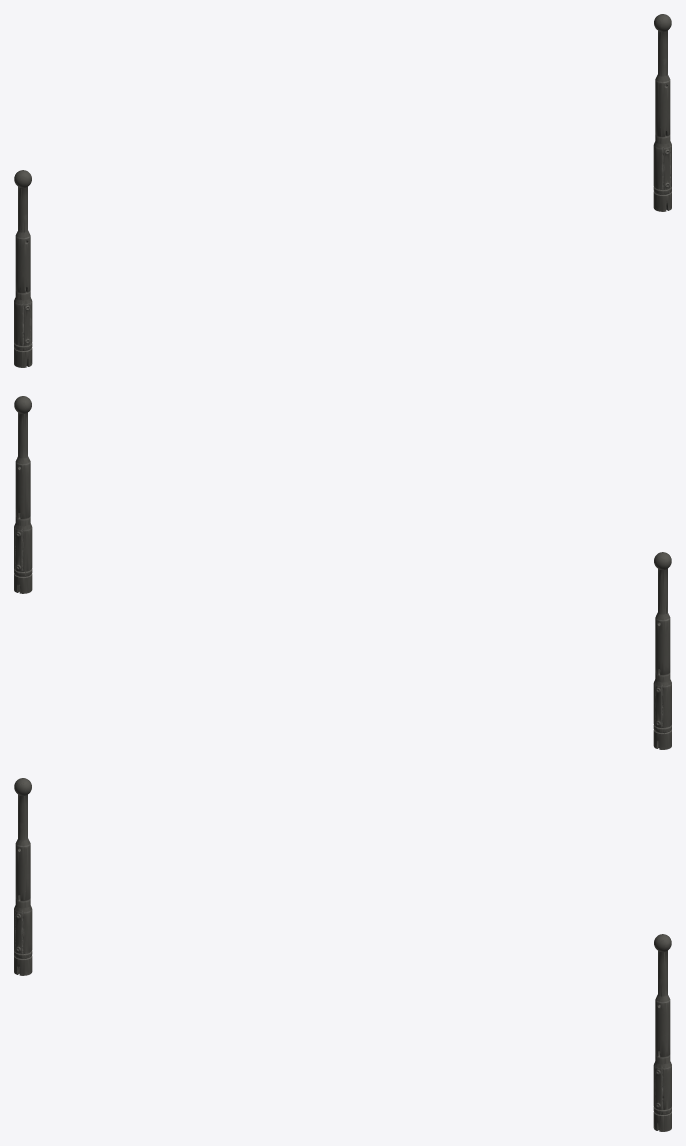
Rendered from piece_antenna_classic.glb.
The picture shows the model from 3 angles, top to bottom: view 1: azimuth 30°, elevation 25°; view 2: azimuth 150°, elevation 25°; view 3: azimuth 330°, elevation 25°; orthographic projection.
Visible parts, largest first — view 1: trait_antenna_classic_left, trait_antenna_classic_right; view 2: trait_antenna_classic_left, trait_antenna_classic_right; view 3: trait_antenna_classic_right, trait_antenna_classic_left.
Part boxes in pixels (bbox=[...]): trait_antenna_classic_left: bbox=[653, 14, 671, 211]; trait_antenna_classic_right: bbox=[14, 170, 32, 367]; trait_antenna_classic_left: bbox=[14, 396, 32, 593]; trait_antenna_classic_right: bbox=[653, 552, 671, 749]; trait_antenna_classic_right: bbox=[14, 778, 32, 975]; trait_antenna_classic_left: bbox=[653, 934, 671, 1131].
Size of the model in its own units: 0.6784 by 0.1911 by 0.0176.
2 materials, 2 textured.
